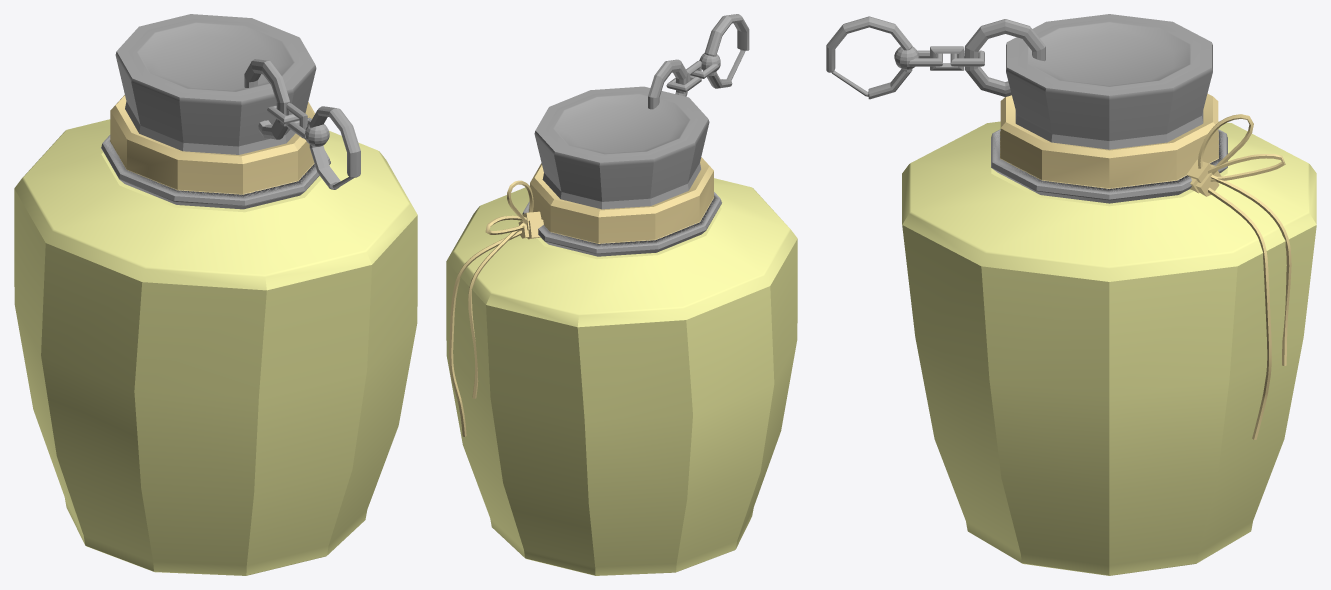
The model's file is kirbybottle(Golden).fbx.
The picture shows the model from 3 angles, left to right: view 1: azimuth 30°, elevation 25°; view 2: azimuth 150°, elevation 25°; view 3: azimuth 270°, elevation 25°; orthographic projection. The views are drawn at different scales.
Visible parts, largest first — view 1: Bottle, BottleCap, Bottlecoverthing, Bottle_ribbon, keyring, Ring; view 2: Bottle, BottleCap, Bottlecoverthing, ribbon, Bottle_ribbon, keyring, Ring; view 3: Bottle, BottleCap, Bottlecoverthing, ribbon, Bottle_ribbon, keyring, Ring.
Boxes of the visible parts, x1,y1,x2,y2 form: Bottle: [14, 119, 417, 575]; BottleCap: [115, 14, 316, 154]; Bottlecoverthing: [110, 95, 315, 194]; Bottle_ribbon: [101, 135, 330, 209]; keyring: [305, 106, 360, 189]; Ring: [244, 59, 289, 139]; Bottle: [446, 178, 797, 575]; BottleCap: [534, 86, 709, 209]; Bottlecoverthing: [530, 157, 714, 243]; ribbon: [449, 180, 543, 436]; Bottle_ribbon: [522, 192, 721, 256]; keyring: [699, 14, 749, 88]; Ring: [648, 59, 687, 109]; Bottle: [902, 121, 1316, 575]; BottleCap: [1006, 14, 1212, 149]; Bottlecoverthing: [1000, 93, 1218, 188]; ribbon: [1186, 114, 1291, 439]; Bottle_ribbon: [991, 129, 1227, 203]; keyring: [826, 16, 919, 99]; Ring: [965, 19, 1045, 96].
Bounding box in the file's own units: 9.52 × 12.87 × 11.55.
